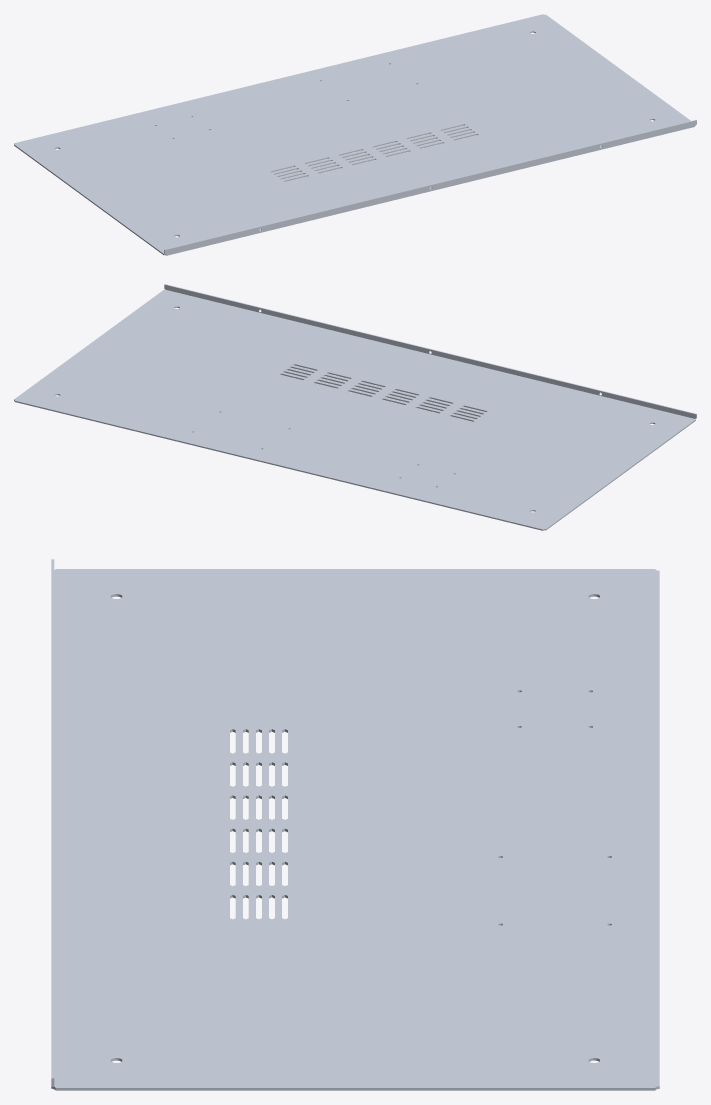
Rendered from _test_sep.glb.
The picture shows the model from 3 angles, top to bottom: view 1: azimuth 30°, elevation 25°; view 2: azimuth 150°, elevation 25°; view 3: azimuth 270°, elevation 25°; orthographic projection. The views are drawn at different scales.
Parts seen in each view (by area): view 1: bottom, front; view 2: bottom, front; view 3: bottom, front.
Part boxes in pixels (<box>): bottom: <box>14,14,695,255</box>; front: <box>164,120,696,255</box>; bottom: <box>14,289,695,530</box>; front: <box>164,284,696,418</box>; bottom: <box>51,569,659,1090</box>; front: <box>51,559,54,1088</box>.
Bounding box in the file's own units: 846 × 9.34 × 419.
